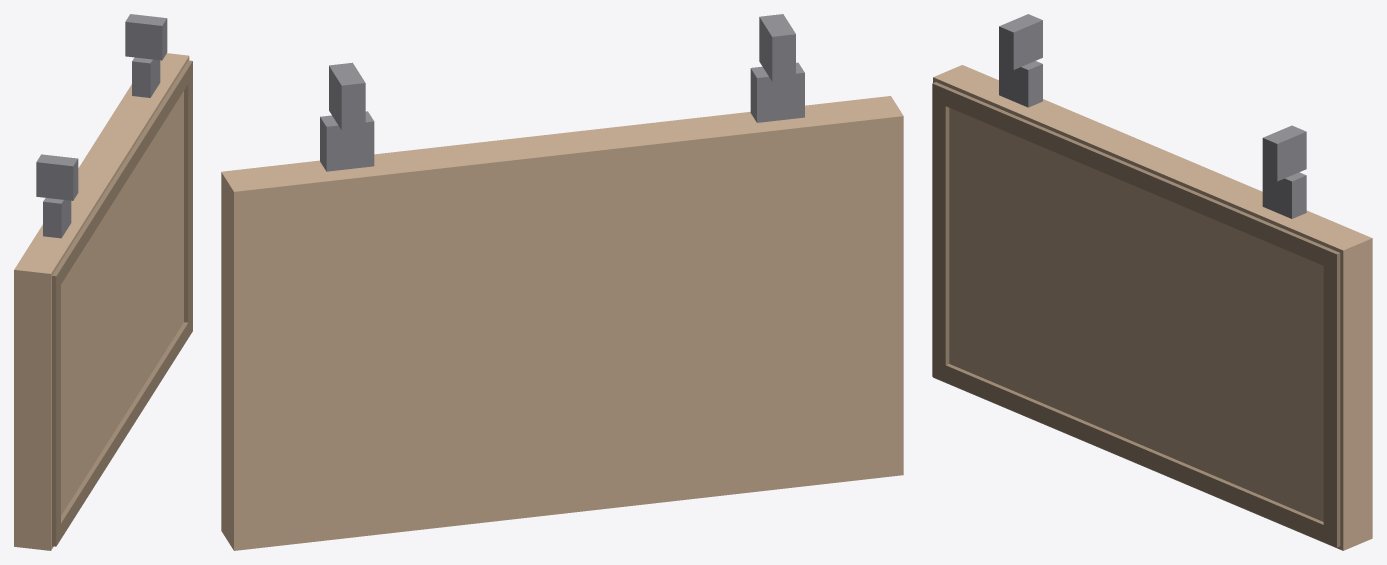
File: sign_jungle_hang_diag.gltf
3 renders of one model, left to right at view 1: azimuth 30°, elevation 25°; view 2: azimuth 150°, elevation 25°; view 3: azimuth 270°, elevation 25°, orthographic. The views are drawn at different scales.
Parts seen in each view (by area): view 1: sign_jungle_hang_diag; view 2: sign_jungle_hang_diag; view 3: sign_jungle_hang_diag.
Part boxes in pixels (x1,y1,x2,y2): sign_jungle_hang_diag: [14, 14, 192, 550]; sign_jungle_hang_diag: [221, 14, 903, 550]; sign_jungle_hang_diag: [932, 14, 1372, 550].
Size of the model in its own units: 0.664 by 0.631 by 0.664.
